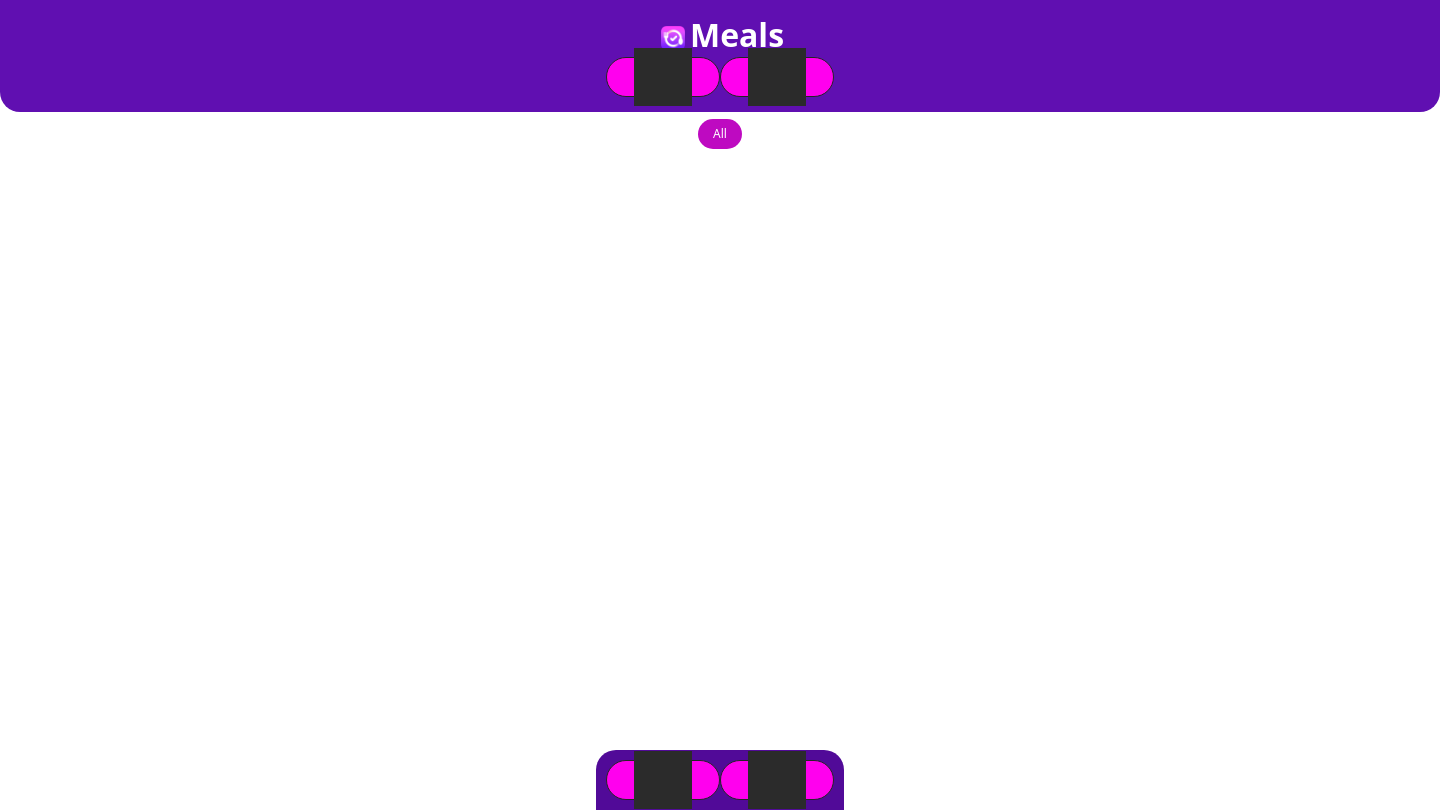
Testa componente Header › Verifica se botão search renderiza um input
Click the button with test id "search-button" at (777, 77), box [720,57,834,97]
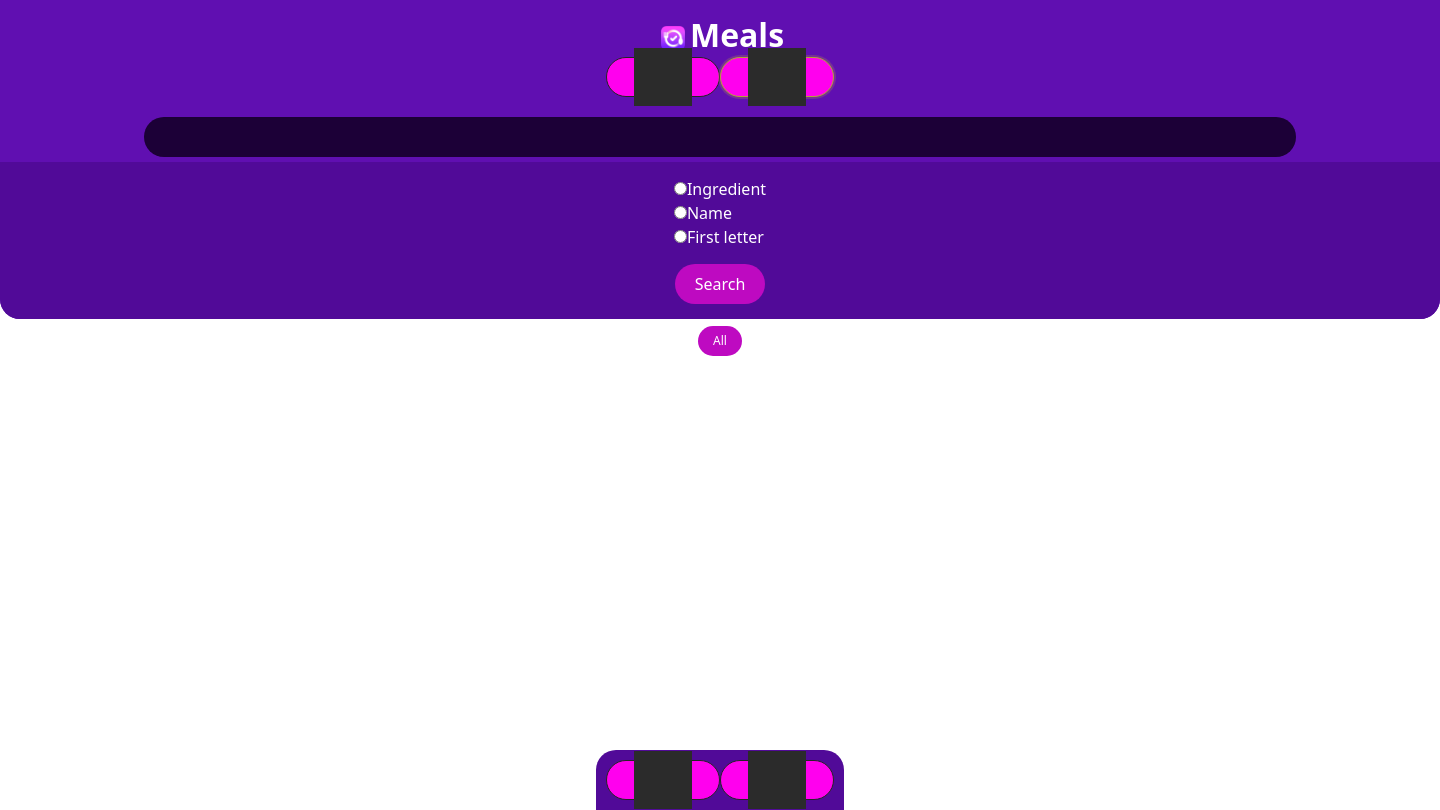
Check: the field is shown, box [144,117,1296,157]
